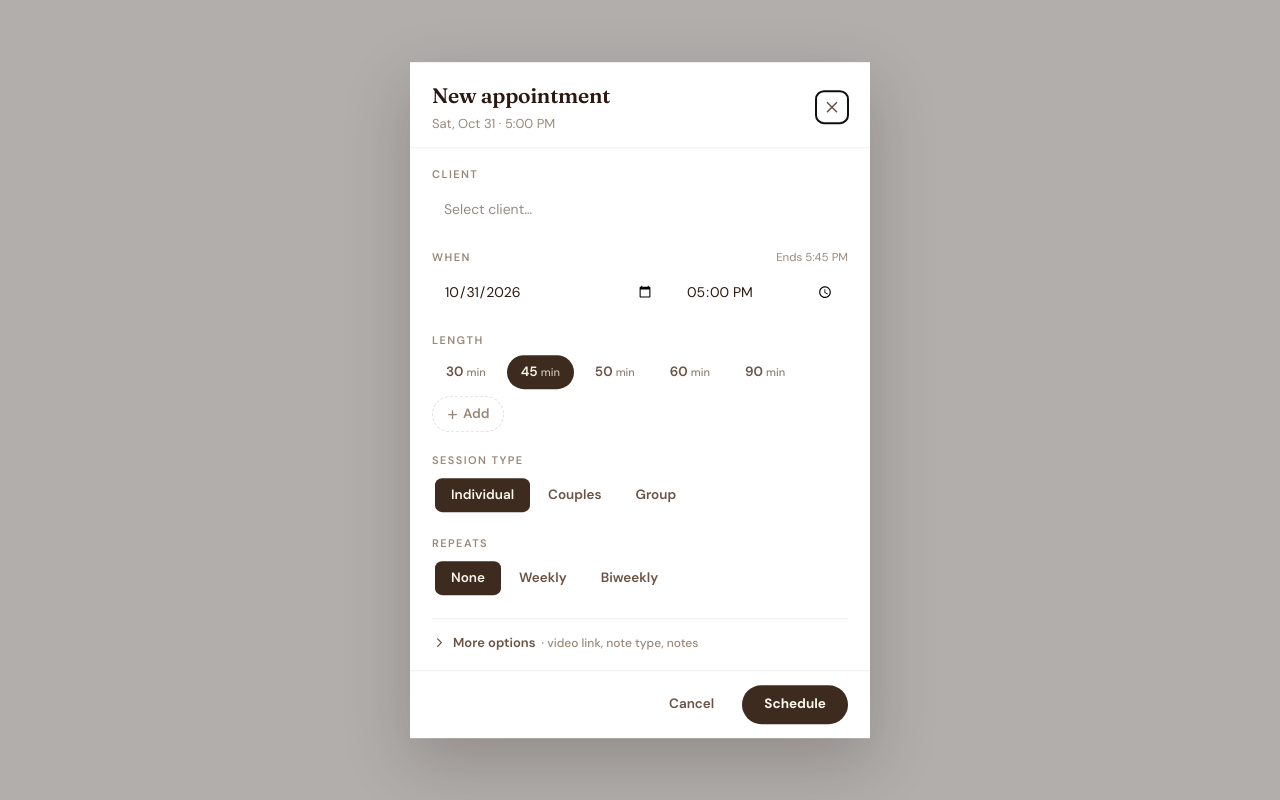
Test case: AppointmentModal › Truncated roster hint › shows a count hint when the roster exceeds the loaded page and the query is empty
Click the dropdown labelled "Select client…": (640, 209) 432,189 -> 848,229
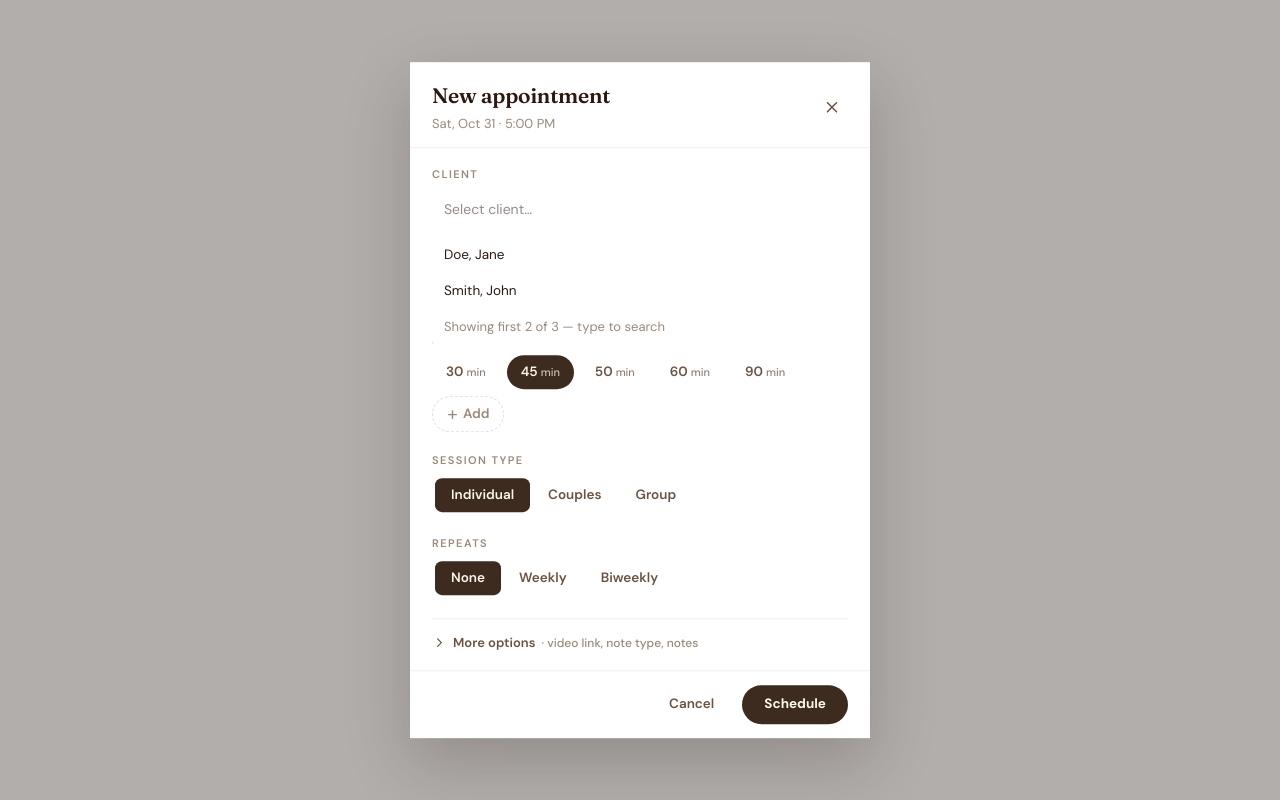
Now the list item "Showing first 2 of 3 — type to search" is shown, box 444,318 -> 665,335
Now the number of options is 2, box 444,246 -> 504,263; 444,282 -> 516,299
